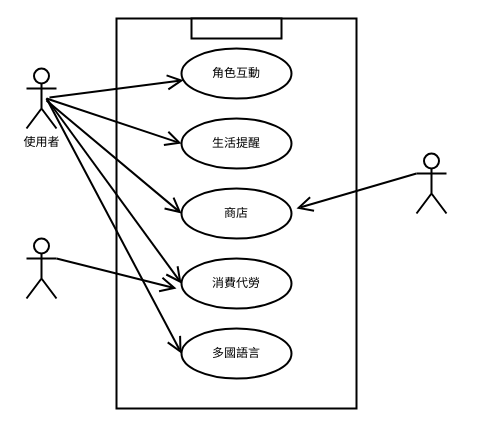
Some shapes in this 478 by 426 pixel diagram are drawn without their labels. Here are the shapes that lost their labels. From the top down, the centre of each, then its label:
At (236,28): "L'amour系統".
At (431,183): "系統管理者".
At (41,268): "合作商家".
